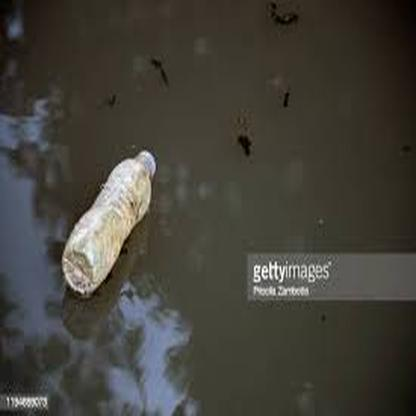plastic bottle: (62, 148, 157, 292)
